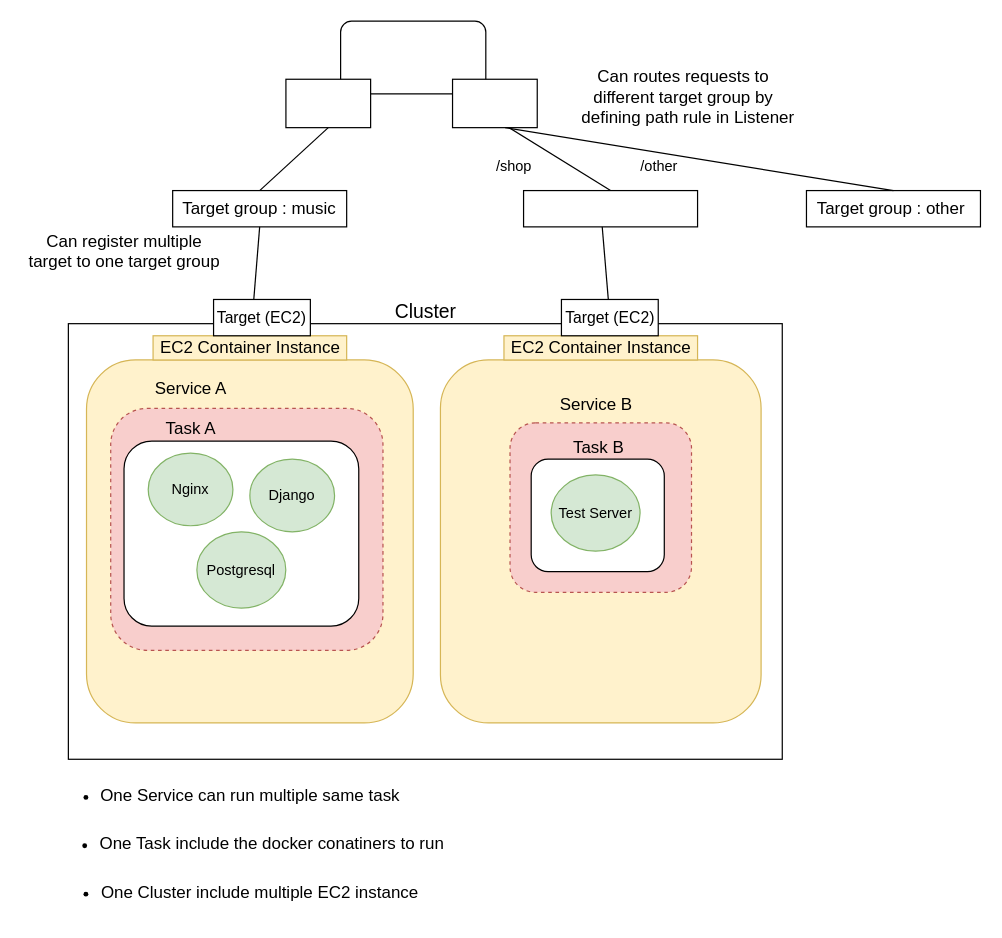
Image size: 1002x938. Some labels were removed from this diagram. Here are the shapes that lost their labels. From the top down, the centre of each, then its label:
(x=412, y=57): Elastic Load Balancer
(x=328, y=103): Listener (port : 80)
(x=494, y=103): Listener (port : 3000)
(x=610, y=208): Target group : shop
